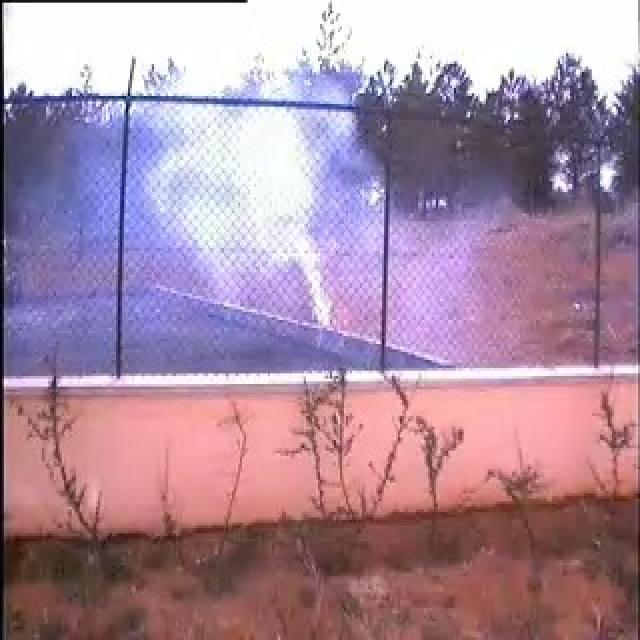smoke: (93, 95, 385, 363)
